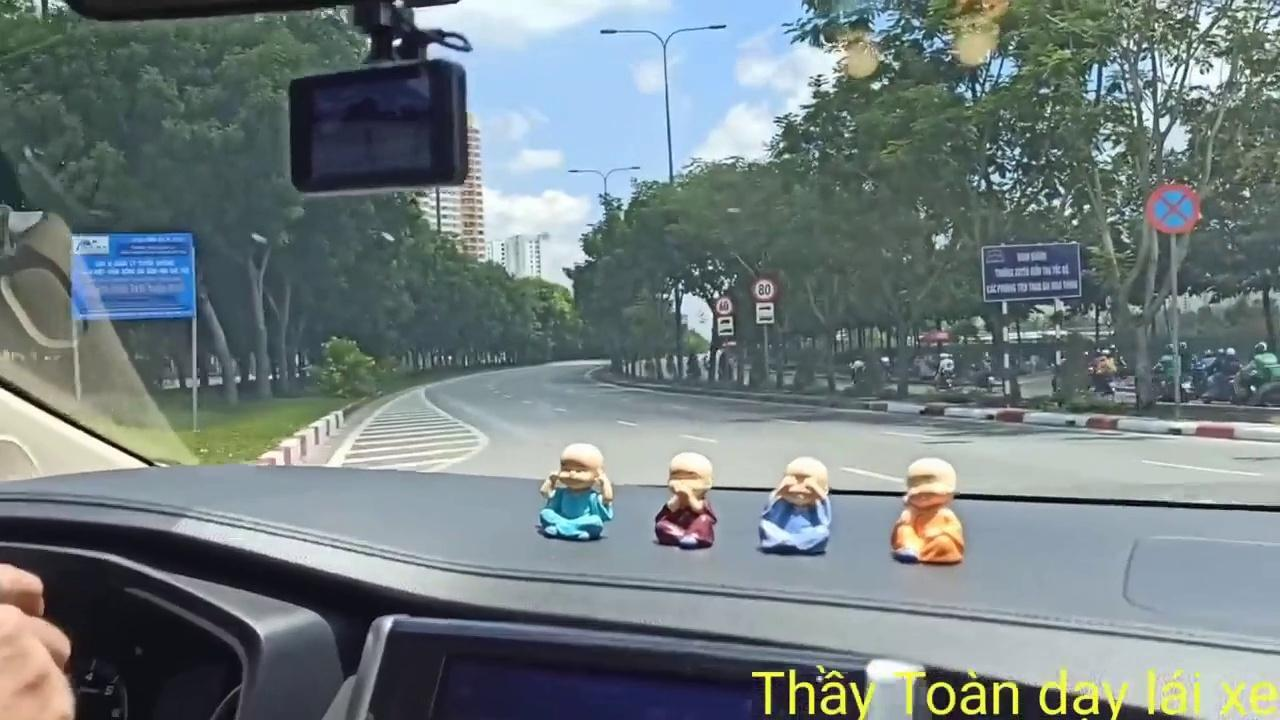Biển phụ: (756, 302, 774, 327), (715, 316, 732, 335)
Cấm dừng - Cấm đỗ: (1146, 180, 1203, 239)
GIơi hạn tốc độ 60Km/h: (716, 296, 732, 316)
Giới hạn tốc độ 80Km/h: (752, 276, 778, 300)
Đuờng hẹp: (66, 228, 196, 320)
